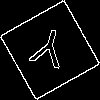Y: (25, 25, 70, 79)
